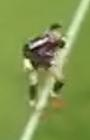goalkeeper: (8, 13, 87, 120)
